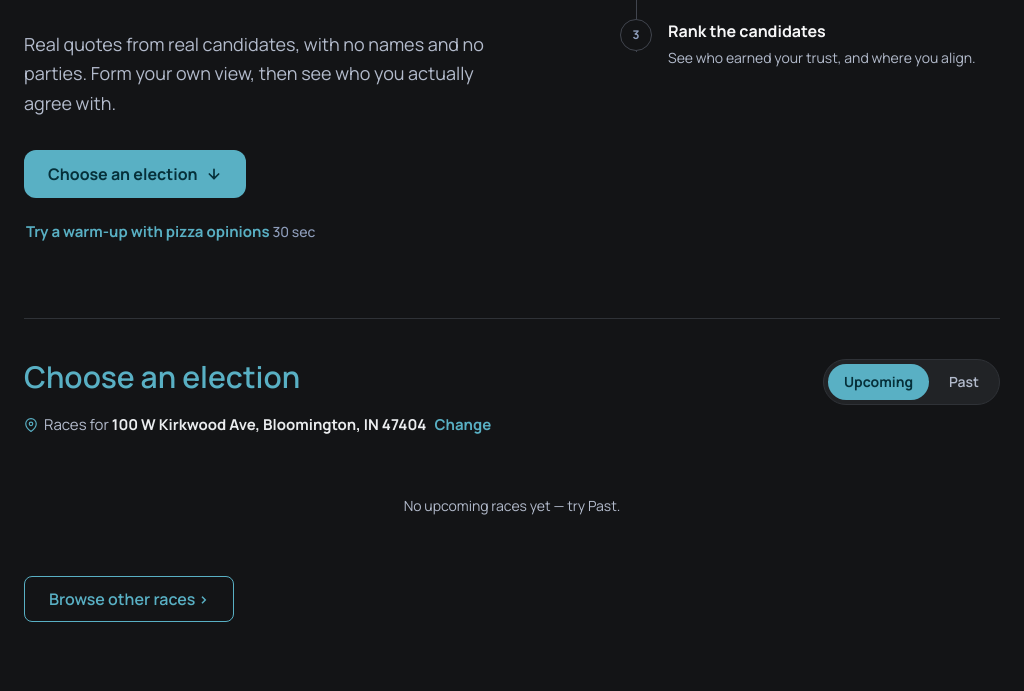
it: Landing › with an address: shows "Races for … Change" and the switch drives the list
(page scrolled)
Expected: the text "Races for 100 W Kirkwood Ave, Bloomington, IN 47404" is shown, x1=44 y1=414 x2=426 y2=436
Expected: the button with aria-label "Change address" is shown, x1=432 y1=403 x2=493 y2=447
Note: The demo Indiana race (2024-11-05) is past — switch to Past to see it.
Click the button "Past" at [964, 382], box x1=933 y1=364 x2=995 y2=400
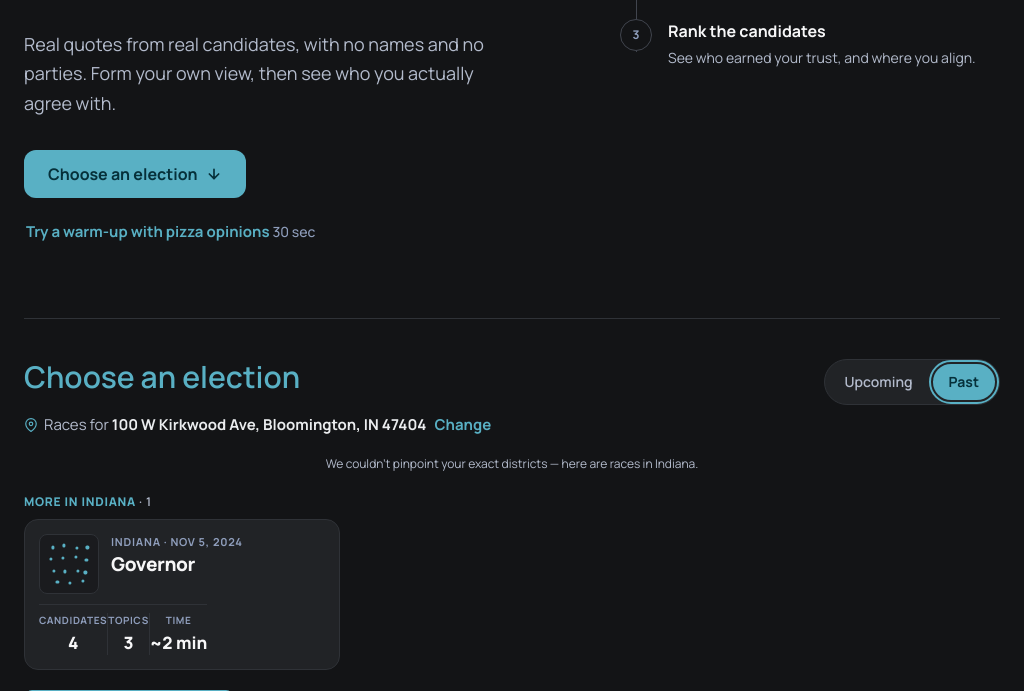
Expected: the number of elements named "filter by election timing" is 1, x1=824 y1=359 x2=1000 y2=405
Result: the text "Governor" is shown at x1=111 y1=551 x2=195 y2=577
